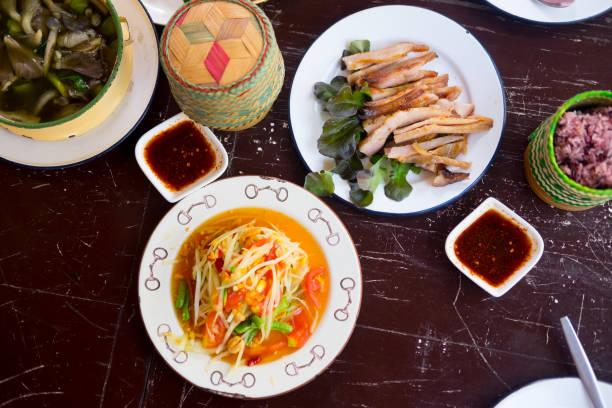Braised Crucian Carp: (136, 175, 359, 401), (287, 4, 507, 219), (2, 0, 161, 171), (485, 377, 609, 408)
